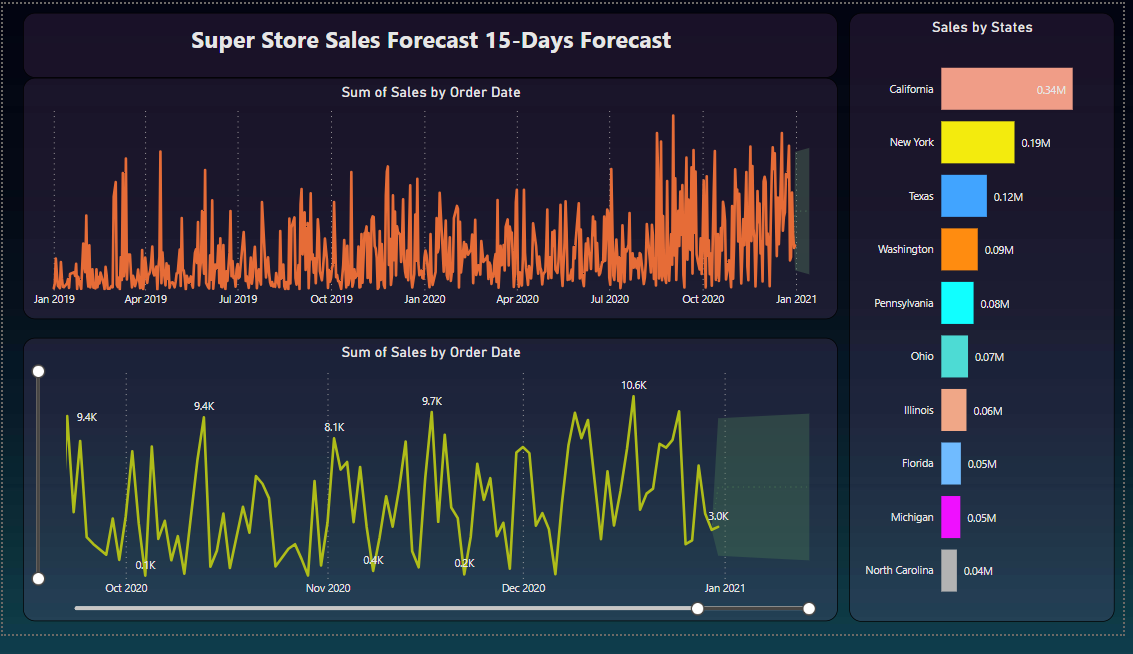

What the dashboard file says about the page in this screenshot:
{"tool":"powerbi","page":{"name":"Page 2","canvas":[1280,720],"ordinal":1},"visuals":[{"type":"lineChart","fields":{"Y":["Sum(Sheet1.Sales)"],"Category":["Sheet1.Order Date"]},"box":[22.9,84.3,931.4,275.7],"z":0},{"type":"lineChart","fields":{"Y":["Sum(Sheet1.Sales)"],"Category":["Sheet1.Order Date"]},"box":[22.9,381.4,931.4,324.3],"z":1000},{"type":"clusteredBarChart","title":"Sales by States","fields":{"Y":["Sum(Sheet1.Sales)"],"Category":["Sheet1.State"]},"box":[967.1,10,302.9,695.7],"z":2000},{"type":"textbox","box":[22.9,10,931.4,74.3],"z":3000}]}

Visuals, with their boxes in screenshot pixels (x1, y1, x2, y2), scaled from the page's 1280x720 canvas onto the 1133x654 screenshot:
lineChart - Sum(Sheet1.Sales) x Sheet1.Order Date: [x1=20, y1=77, x2=845, y2=327]
lineChart - Sum(Sheet1.Sales) x Sheet1.Order Date: [x1=20, y1=346, x2=845, y2=641]
"Sales by States" clusteredBarChart: [x1=856, y1=9, x2=1124, y2=641]
textbox: [x1=20, y1=9, x2=845, y2=77]
